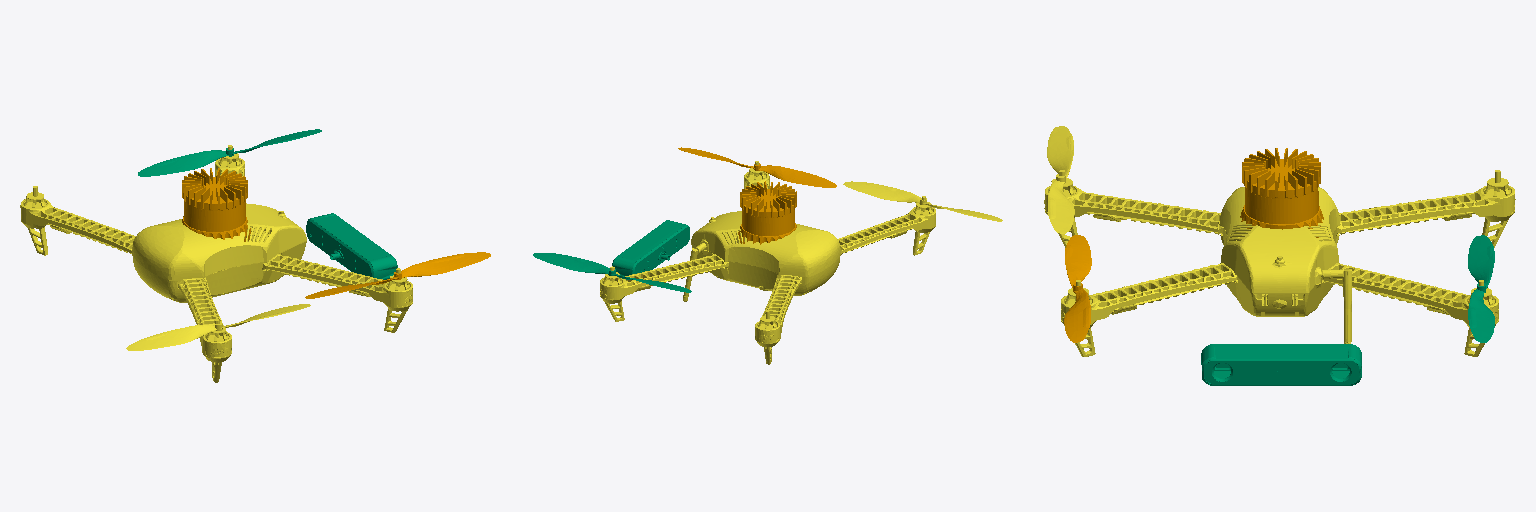
The robot description file, URDF, robot "iris_with_sensors.pegasus.robot":
<?xml version="1.0" encoding="UTF-8"?>
<robot name="iris_with_sensors.pegasus.robot">
  <joint name="DistanceJoint" type="fixed">
    <origin xyz="0. 0. 0." rpy="0. 0. 1.5707872"/>
    <parent link="base_link"/>
    <child link="base_link_body_body_link"/>
  </joint>
  <joint name="OS1_REV6_128_10hz___512_resolution_FixedJoint" type="fixed">
    <origin xyz="0. 0. 0.025" rpy="0. 0. -1.5707872"/>
    <parent link="base_link_body_body_link"/>
    <child link="OS1_REV6_128_10hz___512_resolution"/>
  </joint>
  <joint name="base_link_ZED_X_FixedJoint" type="fixed">
    <origin xyz="0.0 -0.2 -0.05" rpy="0. 0. 0."/>
    <parent link="base_link_body_body_link"/>
    <child link="base_link_ZED_X"/>
  </joint>
  <joint name="joint0" type="fixed">
    <origin xyz="-0.2067341 -0.1375972 0.023 " rpy="0. 0. 0."/>
    <parent link="base_link_body_body_link"/>
    <child link="rotor0"/>
    <axis xyz="0. 0. 1."/>
  </joint>
  <joint name="joint1" type="fixed">
    <origin xyz="0.2186935 0.125002 0.023 " rpy="0. 0. 0."/>
    <parent link="base_link_body_body_link"/>
    <child link="rotor1"/>
    <axis xyz="0. 0. 1."/>
  </joint>
  <joint name="joint2" type="fixed">
    <origin xyz="0.2032209 -0.138307 0.023 " rpy="0. 0. 0."/>
    <parent link="base_link_body_body_link"/>
    <child link="rotor2"/>
    <axis xyz="0. 0. 1."/>
  </joint>
  <joint name="joint3" type="fixed">
    <origin xyz="-0.222 0.1245 0.023 " rpy="0. 0. 0."/>
    <parent link="base_link_body_body_link"/>
    <child link="rotor3"/>
    <axis xyz="0. 0. 1."/>
  </joint>
  <joint name="joint_OS1_REV6_128_10hz___512_resolution-lidar" type="fixed">
    <origin xyz="0. 0. 0.03622" rpy="0 0 1.57"/>
    <parent link="OS1_REV6_128_10hz___512_resolution"/>
    <child link="lidar"/>
  </joint>
  <joint name="joint_base_link_ZED_X-camera_left" type="fixed">
    <origin xyz="0.05994 -0.00909 0.0134 " rpy="-1.5707964 0. -3.1415927"/>
    <parent link="base_link_ZED_X"/>
    <child link="camera_left"/>
  </joint>
  <joint name="joint_base_link_ZED_X-camera_right" type="fixed">
    <origin xyz="-0.05994 -0.00909 0.0134 " rpy="-1.5707964 0. -3.1415927"/>
    <parent link="base_link_ZED_X"/>
    <child link="camera_right"/>
  </joint>
  <joint name="joint_base_link_ZED_X-imu" type="fixed">
    <origin xyz="0.06 0.014058 0.0134 " rpy="0. 0. 0."/>
    <parent link="base_link_ZED_X"/>
    <child link="imu"/>
  </joint>
  <link name="OS1_REV6_128_10hz___512_resolution">
    <visual>
      <origin xyz="0. 0. -0." rpy="1.5707964 0. 1.5707963"/>
      <geometry>
        <mesh filename="package://robot_descriptions/iris/meshes/os1_mesh.obj" scale="1. 1. 1."/>
      </geometry>
    </visual>
    <collision>
      <origin xyz="0. 0. -0." rpy="1.5707964 0. 1.5707963"/>
      <geometry>
        <mesh filename="package://robot_descriptions/iris/meshes/os1_mesh.obj" scale="1. 1. 1."/>
      </geometry>
    </collision>
  </link>
  <link name="base_link"/>
  <link name="base_link_ZED_X">
    <visual>
      <origin xyz="0. 0.0157875 0.0134617" rpy="1.5707964 0. 0. "/>
      <geometry>
        <mesh filename="package://robot_descriptions/iris/meshes/base_link_ZED_X_base_link_ZED_X_ZED_X.obj" scale="1. 1. 1."/>
      </geometry>
    </visual>
    <collision>
      <origin xyz="0. 0.0157875 0.0134617" rpy="1.5707964 0. 0. "/>
      <geometry>
        <mesh filename="package://robot_descriptions/iris/meshes/base_link_ZED_X_base_link_ZED_X_ZED_X.obj" scale="1. 1. 1."/>
      </geometry>
    </collision>
  </link>
  <link name="base_link_body_body_link">
    <visual>
      <origin xyz="0. 0. 0." rpy="0. 0. 0."/>
      <geometry>
        <mesh filename="package://robot_descriptions/iris/meshes/base_link_body_body.obj" scale="1. 1. 1."/>
      </geometry>
    </visual>
    <collision>
      <origin xyz="0. 0. 0." rpy="0. 0. 0."/>
      <geometry>
        <mesh filename="package://robot_descriptions/iris/meshes/base_link_body_body.obj" scale="1. 1. 1."/>
      </geometry>
    </collision>
  </link>
  <link name="camera_left"/>
  <link name="camera_right"/>
  <link name="imu"/>
  <link name="lidar"/>
  <link name="rotor0">
    <visual>
      <origin xyz="0.0005641 -0.0042183 0. " rpy="0. 0. 0.0000089"/>
      <geometry>
        <mesh filename="package://robot_descriptions/iris/meshes/rotor0_iris_prop_ccw.obj" scale="1. 1. 1."/>
      </geometry>
    </visual>
    <collision>
      <origin xyz="0.0005641 -0.0042183 0. " rpy="0. 0. 0.0000089"/>
      <geometry>
        <mesh filename="package://robot_descriptions/iris/meshes/rotor0_iris_prop_ccw.obj" scale="1. 1. 1."/>
      </geometry>
    </collision>
  </link>
  <link name="rotor1">
    <visual>
      <origin xyz="0.0002835 -0.0040079 0. " rpy="0. 0. 0.0000089"/>
      <geometry>
        <mesh filename="package://robot_descriptions/iris/meshes/rotor1_iris_prop_ccw.obj" scale="1. 1. 1."/>
      </geometry>
    </visual>
    <collision>
      <origin xyz="0.0002835 -0.0040079 0. " rpy="0. 0. 0.0000089"/>
      <geometry>
        <mesh filename="package://robot_descriptions/iris/meshes/rotor1_iris_prop_ccw.obj" scale="1. 1. 1."/>
      </geometry>
    </collision>
  </link>
  <link name="rotor2">
    <visual>
      <origin xyz="-0.0006439 -0.0006316 0. " rpy="0. 0. 0.0000089"/>
      <geometry>
        <mesh filename="package://robot_descriptions/iris/meshes/rotor2_iris_prop_cw.obj" scale="1. 1. 1."/>
      </geometry>
    </visual>
    <collision>
      <origin xyz="-0.0006439 -0.0006316 0. " rpy="0. 0. 0.0000089"/>
      <geometry>
        <mesh filename="package://robot_descriptions/iris/meshes/rotor2_iris_prop_cw.obj" scale="1. 1. 1."/>
      </geometry>
    </collision>
  </link>
  <link name="rotor3">
    <visual>
      <origin xyz="-0.0020179 -0.0013155 -0.0001005" rpy="0. 0. 0.0000089"/>
      <geometry>
        <mesh filename="package://robot_descriptions/iris/meshes/rotor3_iris_prop_cw.obj" scale="1. 1. 1."/>
      </geometry>
    </visual>
    <collision>
      <origin xyz="-0.0020179 -0.0013155 -0.0001005" rpy="0. 0. 0.0000089"/>
      <geometry>
        <mesh filename="package://robot_descriptions/iris/meshes/rotor3_iris_prop_cw.obj" scale="1. 1. 1."/>
      </geometry>
    </collision>
  </link>
</robot>

--- Facts derived from the render (not from the file) ---
3 views of the same robot in one strip: view 1: azimuth 30°, elevation 25°; view 2: azimuth 150°, elevation 25°; view 3: azimuth 270°, elevation 25° (orthographic).
Model iris_with_sensors.pegasus.robot with 12 links and 11 joints (11 fixed), rooted at base_link, posed every joint at zero.
Links seen in each view (by area): view 1: base_link_body_body_link, OS1_REV6_128_10hz___512_resolution, base_link_ZED_X, rotor0, rotor2, rotor3; view 2: base_link_body_body_link, OS1_REV6_128_10hz___512_resolution, base_link_ZED_X, rotor2, rotor3, rotor0; view 3: base_link_body_body_link, base_link_ZED_X, OS1_REV6_128_10hz___512_resolution, rotor0, rotor2, rotor3.
Link boxes in pixels (x1=…): base_link_body_body_link: x1=20, y1=145, x2=412, y2=382; OS1_REV6_128_10hz___512_resolution: x1=182, y1=168, x2=250, y2=241; base_link_ZED_X: x1=306, y1=213, x2=397, y2=279; rotor0: x1=305, y1=252, x2=490, y2=298; rotor2: x1=138, y1=129, x2=321, y2=176; rotor3: x1=126, y1=304, x2=310, y2=350; base_link_body_body_link: x1=600, y1=161, x2=935, y2=364; OS1_REV6_128_10hz___512_resolution: x1=738, y1=181, x2=796, y2=244; base_link_ZED_X: x1=612, y1=220, x2=689, y2=275; rotor2: x1=533, y1=253, x2=691, y2=292; rotor3: x1=843, y1=181, x2=1002, y2=221; rotor0: x1=678, y1=147, x2=836, y2=187; base_link_body_body_link: x1=1044, y1=170, x2=1515, y2=356; base_link_ZED_X: x1=1201, y1=344, x2=1361, y2=385; OS1_REV6_128_10hz___512_resolution: x1=1240, y1=148, x2=1323, y2=237; rotor0: x1=1064, y1=235, x2=1091, y2=342; rotor2: x1=1468, y1=235, x2=1494, y2=342; rotor3: x1=1047, y1=126, x2=1074, y2=233.
Bounding box of the posed robot: 0.5198 × 0.4777 × 0.1655 m (x, y, z).
Meshes: 7 distinct files referenced, 6 mesh visuals loaded (6 OBJ); not drawn: 1 (reference not matched to a file when rendering).
